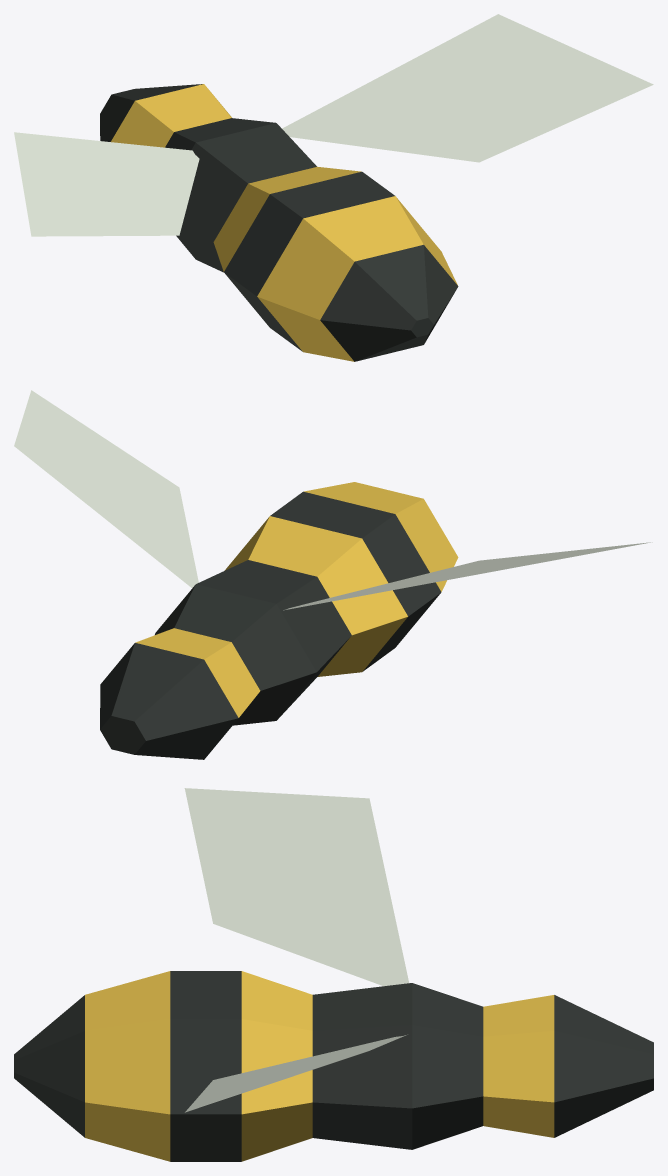
Rendered from lwf_wasp_v1.glb.
3 renders of one model, top to bottom at view 1: azimuth 30°, elevation 25°; view 2: azimuth 150°, elevation 25°; view 3: azimuth 270°, elevation 25°, orthographic. The views are drawn at different scales.
Parts seen in each view (by area): view 1: LWF_Wasp_V1; view 2: LWF_Wasp_V1; view 3: LWF_Wasp_V1.
Part boxes in pixels (x1=…): LWF_Wasp_V1: x1=14, y1=14, x2=653, y2=361; LWF_Wasp_V1: x1=14, y1=390, x2=652, y2=759; LWF_Wasp_V1: x1=14, y1=788, x2=653, y2=1161.
Size of the model in its own units: 0.054 by 0.0165 by 0.045.
Materials: 1 (1 with a texture image).
